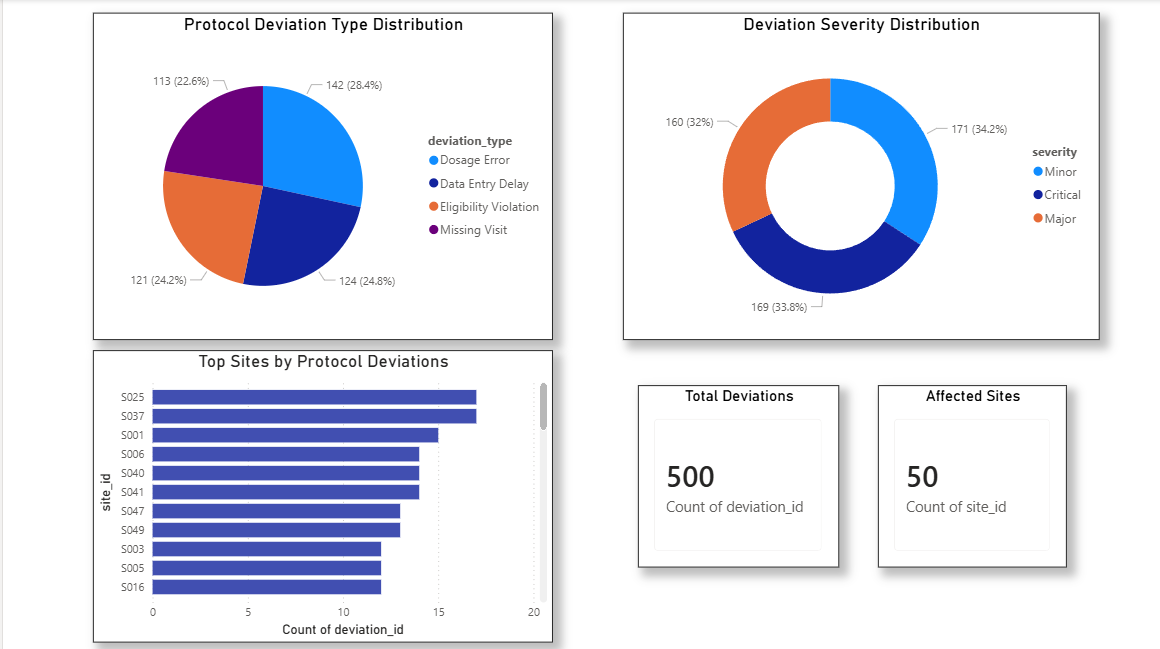

The page's visual inventory and layout, read from the dashboard file:
{"tool":"powerbi","page":{"name":"Protocol Deviation Analysis","canvas":[1280,720],"ordinal":3},"visuals":[{"type":"pieChart","title":"Protocol Deviation Type Distribution","fields":{"Category":["protocol_deviations.deviation_type"],"Y":["Count(protocol_deviations.deviation_id)"]},"box":[98.8,15.1,505,359.5],"z":0},{"type":"donutChart","title":"Deviation Severity Distribution","fields":{"Category":["protocol_deviations.severity"],"Y":["CountNonNull(protocol_deviations.deviation_id)"]},"box":[680.6,15.1,522.8,359.5],"z":1000},{"type":"clusteredBarChart","title":"Top Sites by Protocol Deviations","fields":{"Category":["protocol_deviations.site_id"],"Y":["Count(protocol_deviations.deviation_id)"]},"box":[157.8,359.5,462.4,321.1],"z":2000},{"type":"cardVisual","title":"Total Deviations","fields":{"Data":["Count(protocol_deviations.deviation_id)"]},"box":[721.8,404.8,220.9,200.3],"z":3000},{"type":"cardVisual","title":"Affected Sites","fields":{"Data":["Count(protocol_deviations.site_id)"]},"box":[942.7,404.8,207.2,200.3],"z":4000}]}

Visuals, with their boxes in screenshot pixels (x1, y1, x2, y2), scaled from the page's 1280x720 canvas onto the 1160x649 screenshot:
"Protocol Deviation Type Distribution" pieChart: <bbox>90, 14, 547, 338</bbox>
"Deviation Severity Distribution" donutChart: <bbox>617, 14, 1091, 338</bbox>
"Top Sites by Protocol Deviations" clusteredBarChart: <bbox>143, 324, 562, 613</bbox>
"Total Deviations" cardVisual: <bbox>654, 365, 854, 545</bbox>
"Affected Sites" cardVisual: <bbox>854, 365, 1042, 545</bbox>
